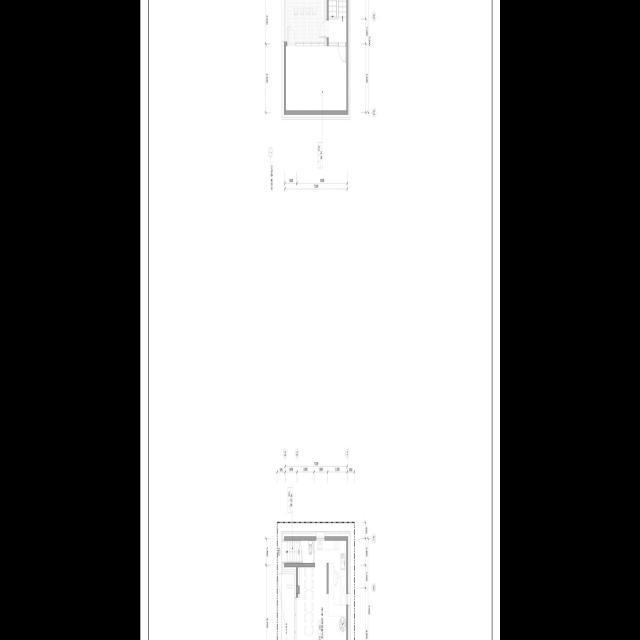background: (140, 0, 500, 640)
space_other: (296, 541, 346, 640), (285, 46, 346, 111)
space_staircase: (328, 0, 346, 43), (284, 541, 302, 563)
space_toilet: (300, 541, 313, 563)
